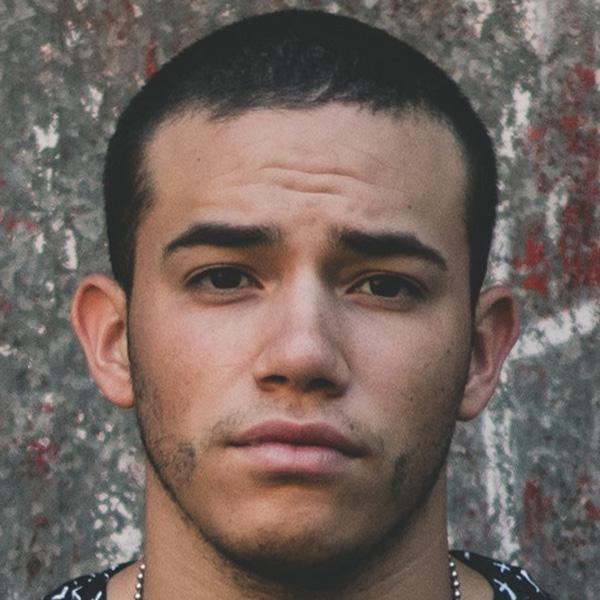Eyes: (337, 258, 431, 316), (175, 252, 268, 308)
